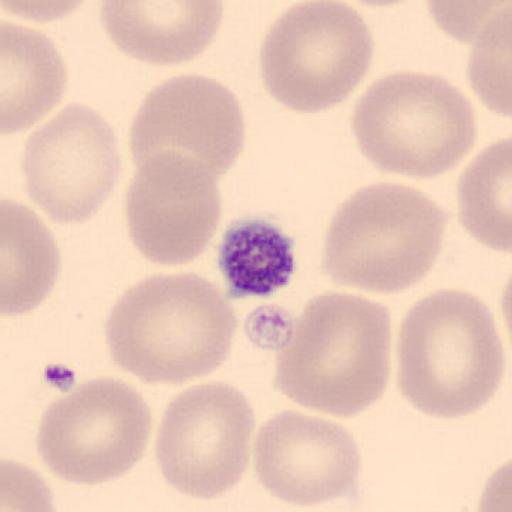Platelet: (216, 215, 300, 301)
RBC: (102, 271, 240, 386), (273, 288, 393, 420), (319, 179, 449, 295), (348, 67, 480, 180), (395, 286, 505, 421), (258, 0, 376, 116), (35, 374, 154, 488), (128, 71, 247, 184), (20, 101, 124, 226), (153, 379, 257, 501), (124, 148, 223, 269), (252, 408, 364, 508), (98, 0, 225, 69), (2, 19, 69, 136), (2, 196, 62, 317), (455, 137, 512, 254), (466, 4, 512, 118), (424, 0, 512, 42), (1, 455, 56, 512), (2, 0, 98, 24), (475, 458, 512, 512), (330, 0, 426, 8)
